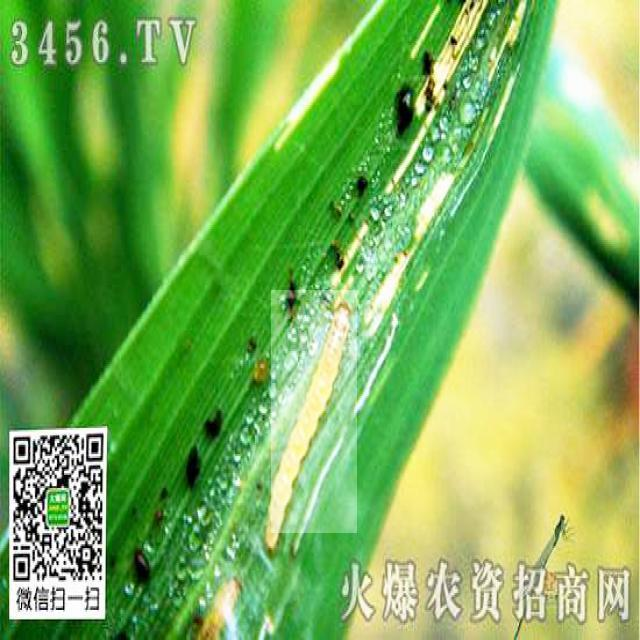leaf-folder: (271, 290, 357, 533)
